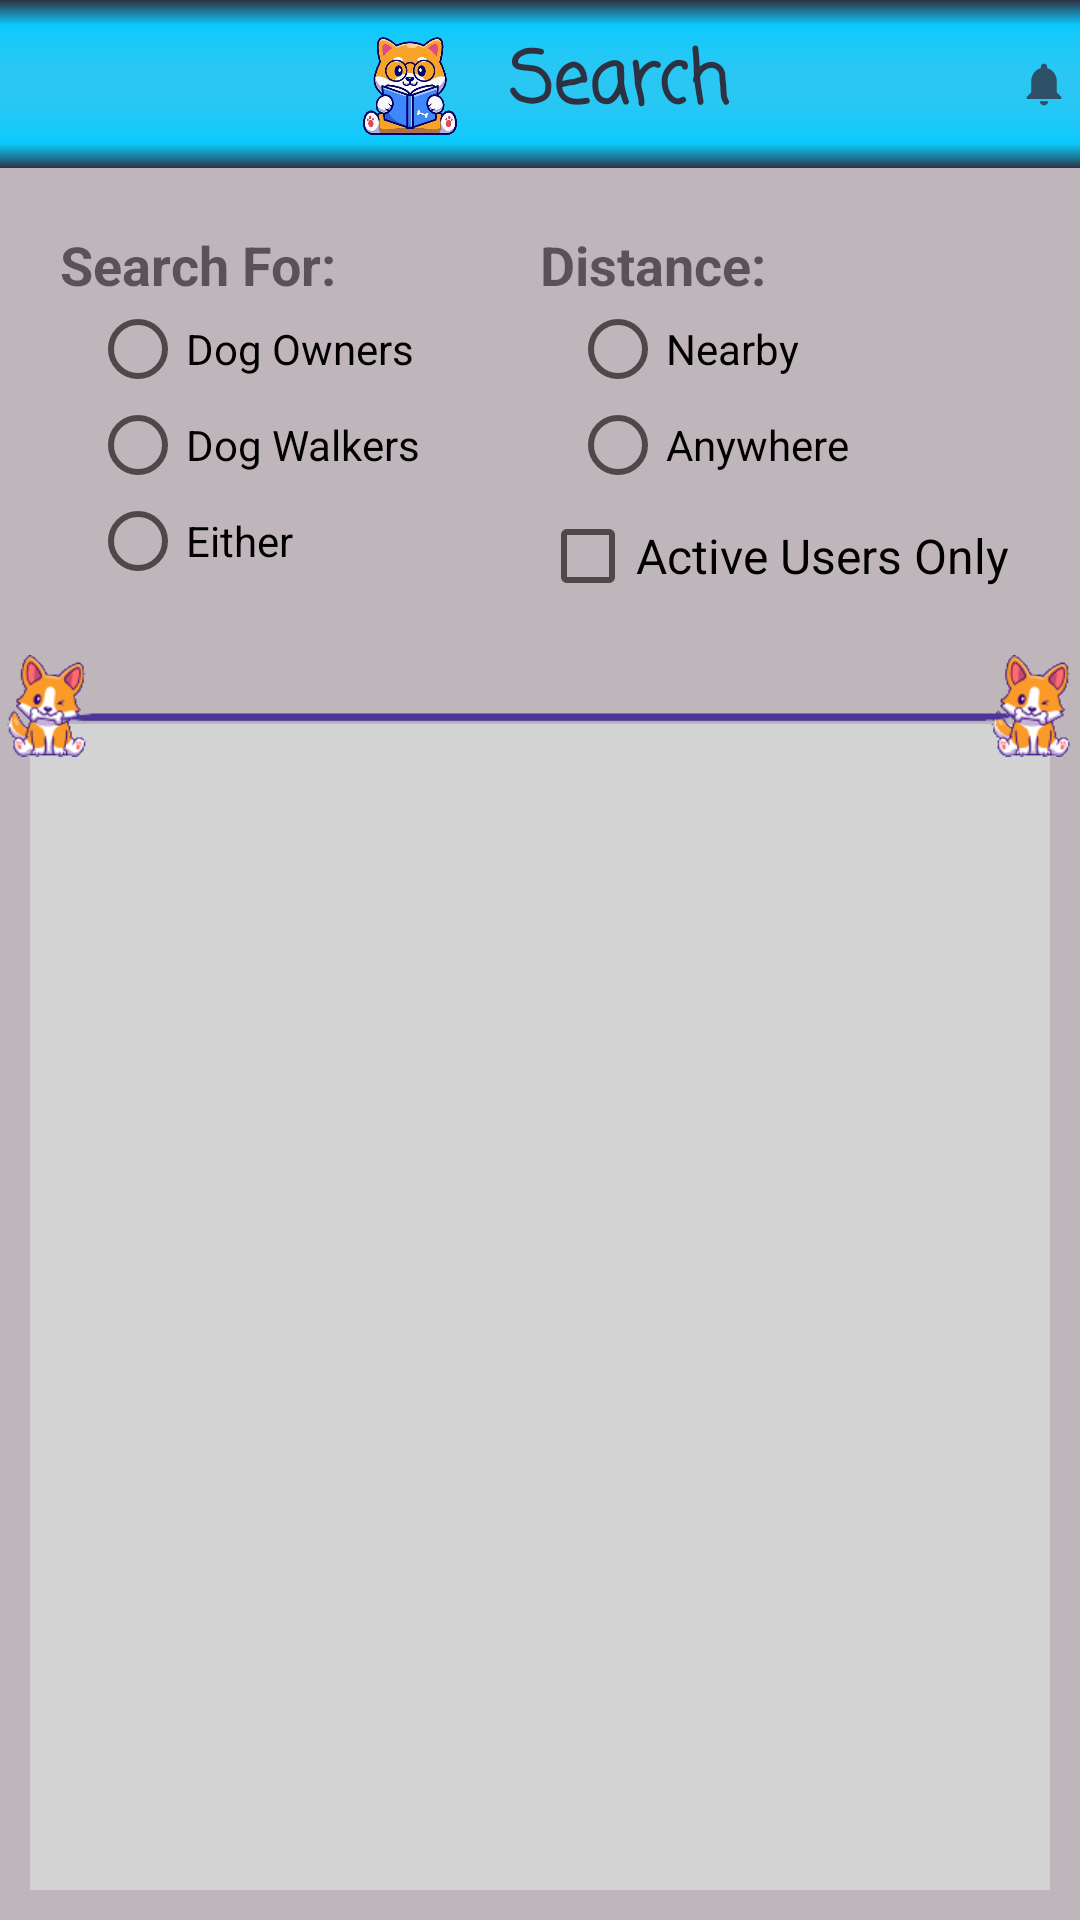

Where icons sit on this 1080px×1920px app screen, as detection(x1, y1, x2, y2):
notify: detection(1026, 63, 1062, 106)
